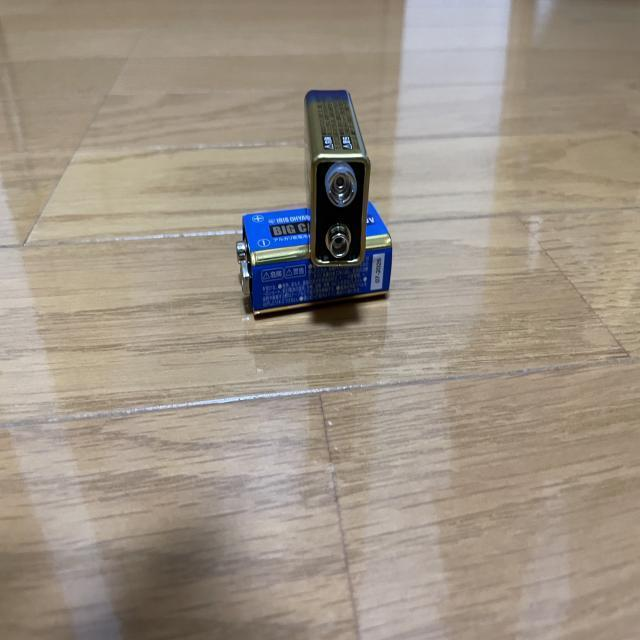9V: (235, 199, 393, 319), (303, 89, 373, 269)
